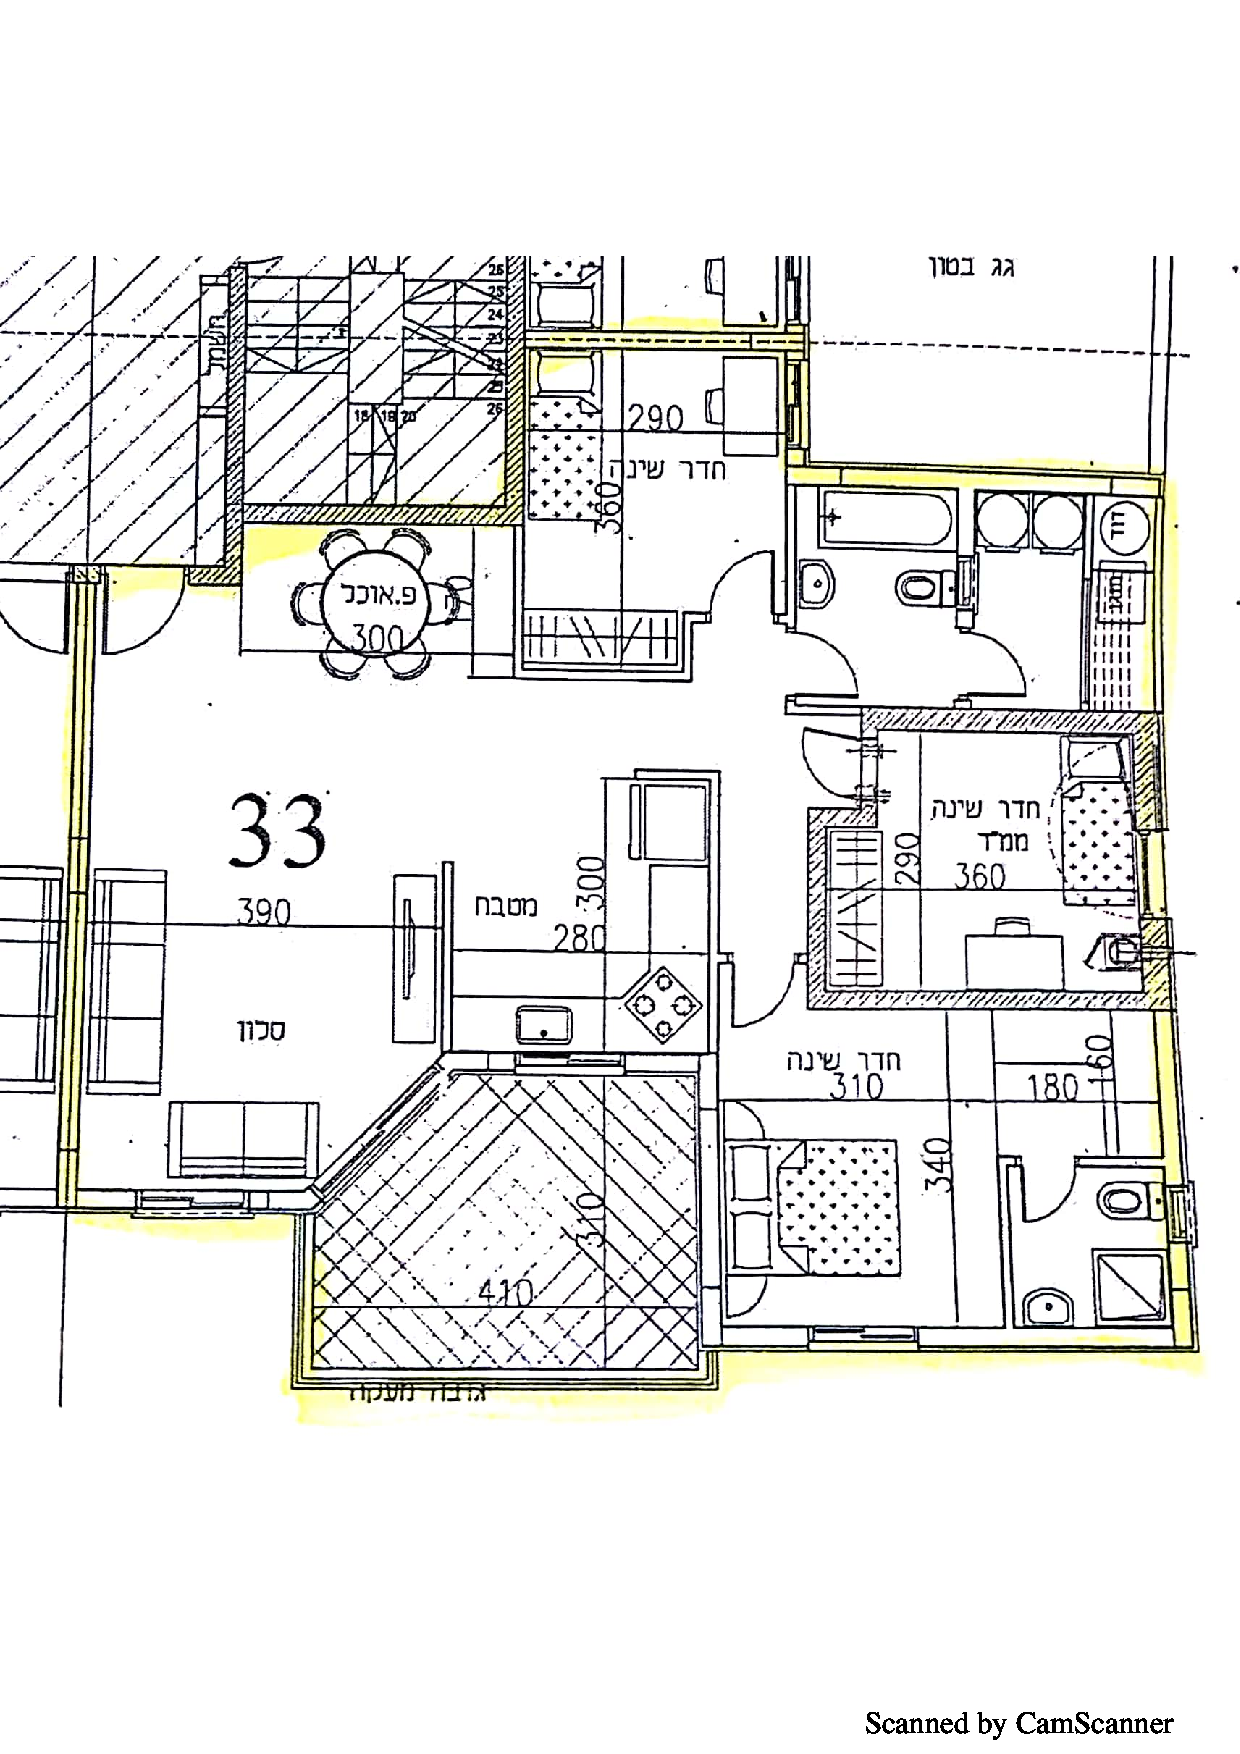door: (691, 523, 782, 601), (803, 624, 880, 699), (977, 625, 1049, 701), (726, 972, 800, 1040), (1016, 1168, 1090, 1236)
